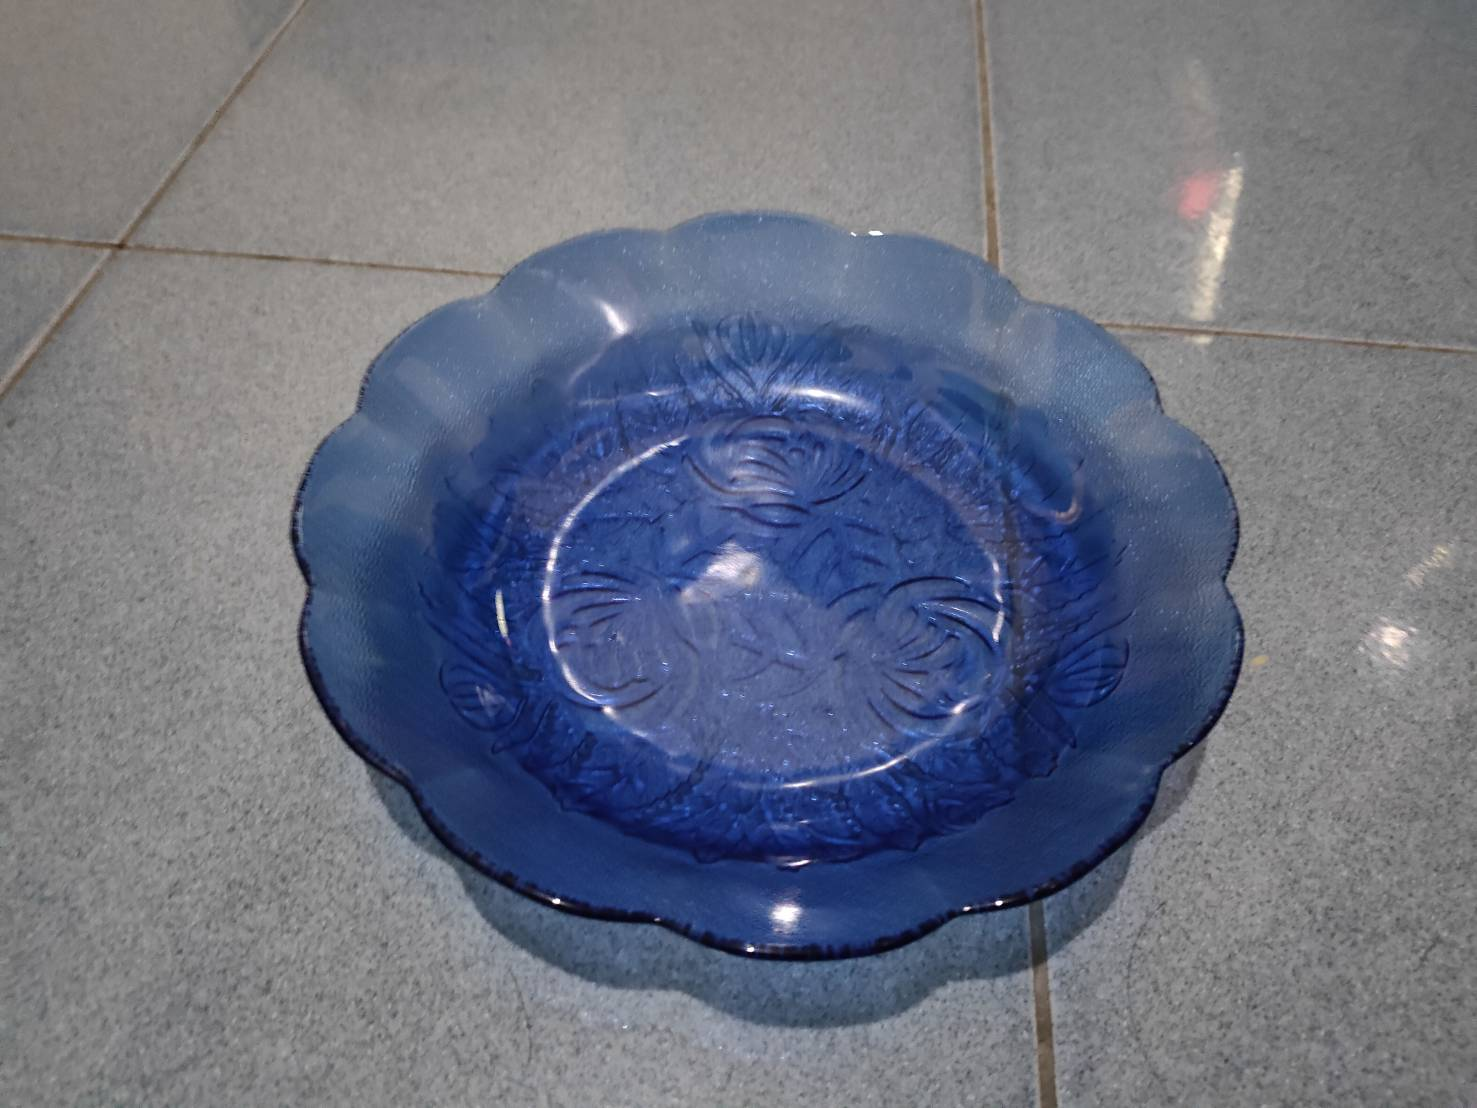piring: (278, 206, 1244, 952)
